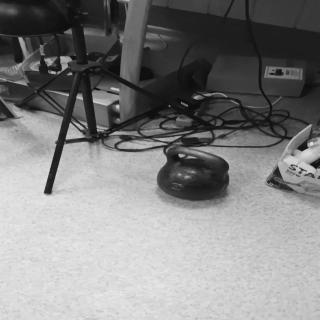kettlebell: (157, 147, 232, 201)
